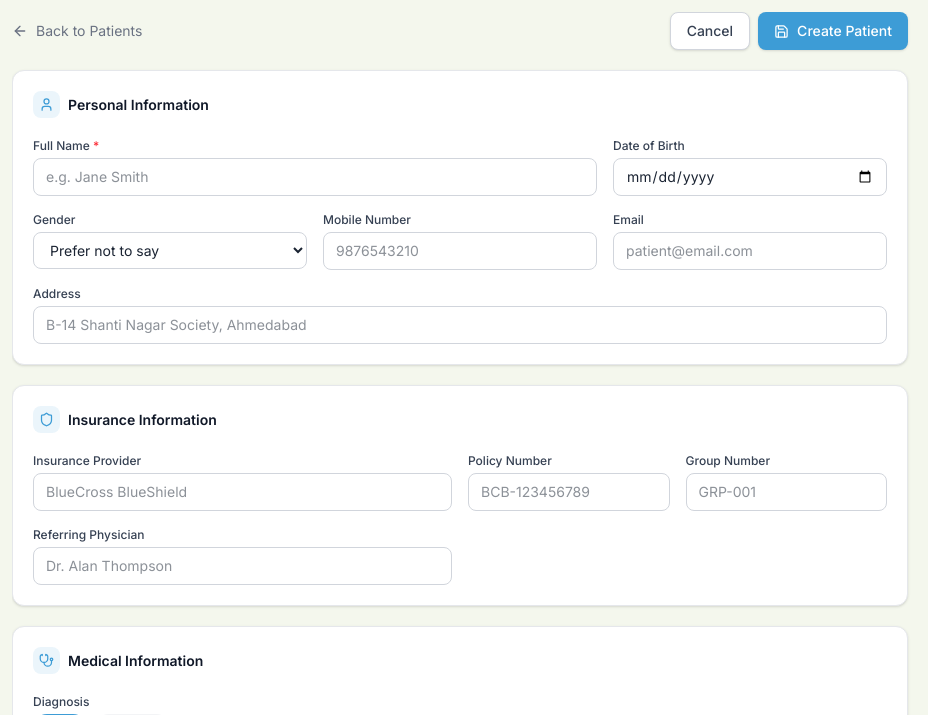
PatientForm › blocks submission and shows an error when the name is empty
Click the button "Create Patient".
click(833, 31)  # box [758,12,908,50]
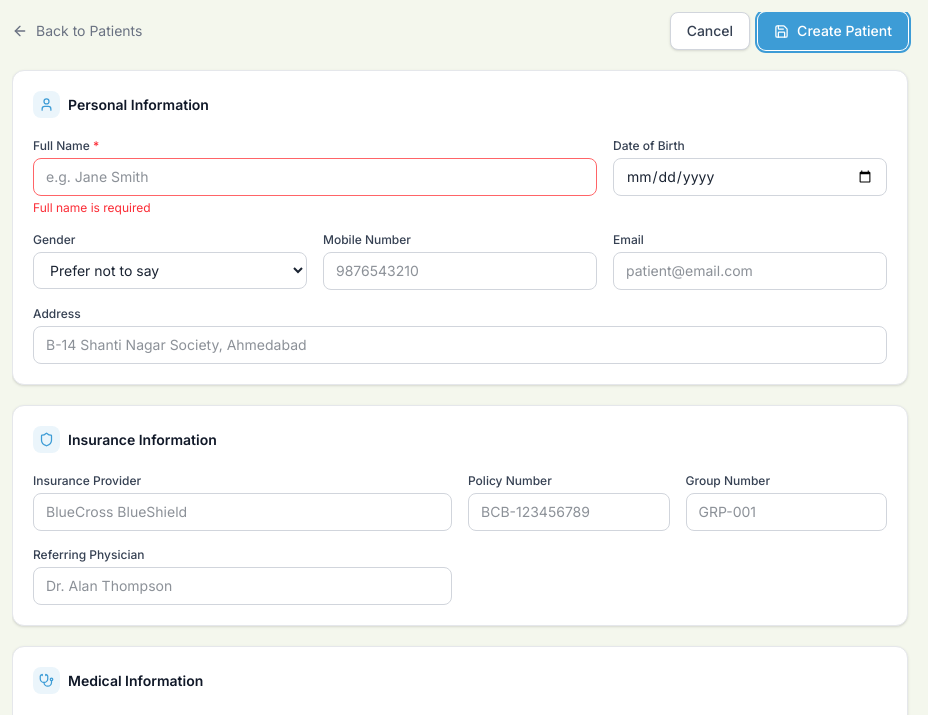
expect the text "Full name is required" is shown: met, box [33,200,151,215]
